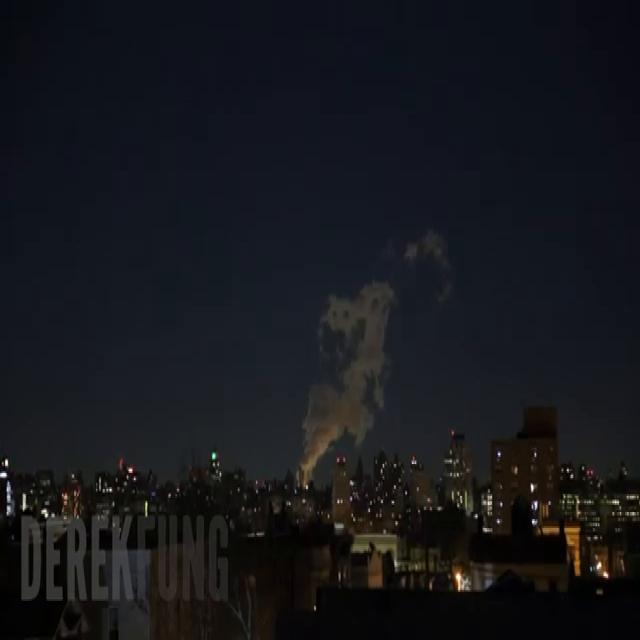smoke: (302, 281, 394, 468)
